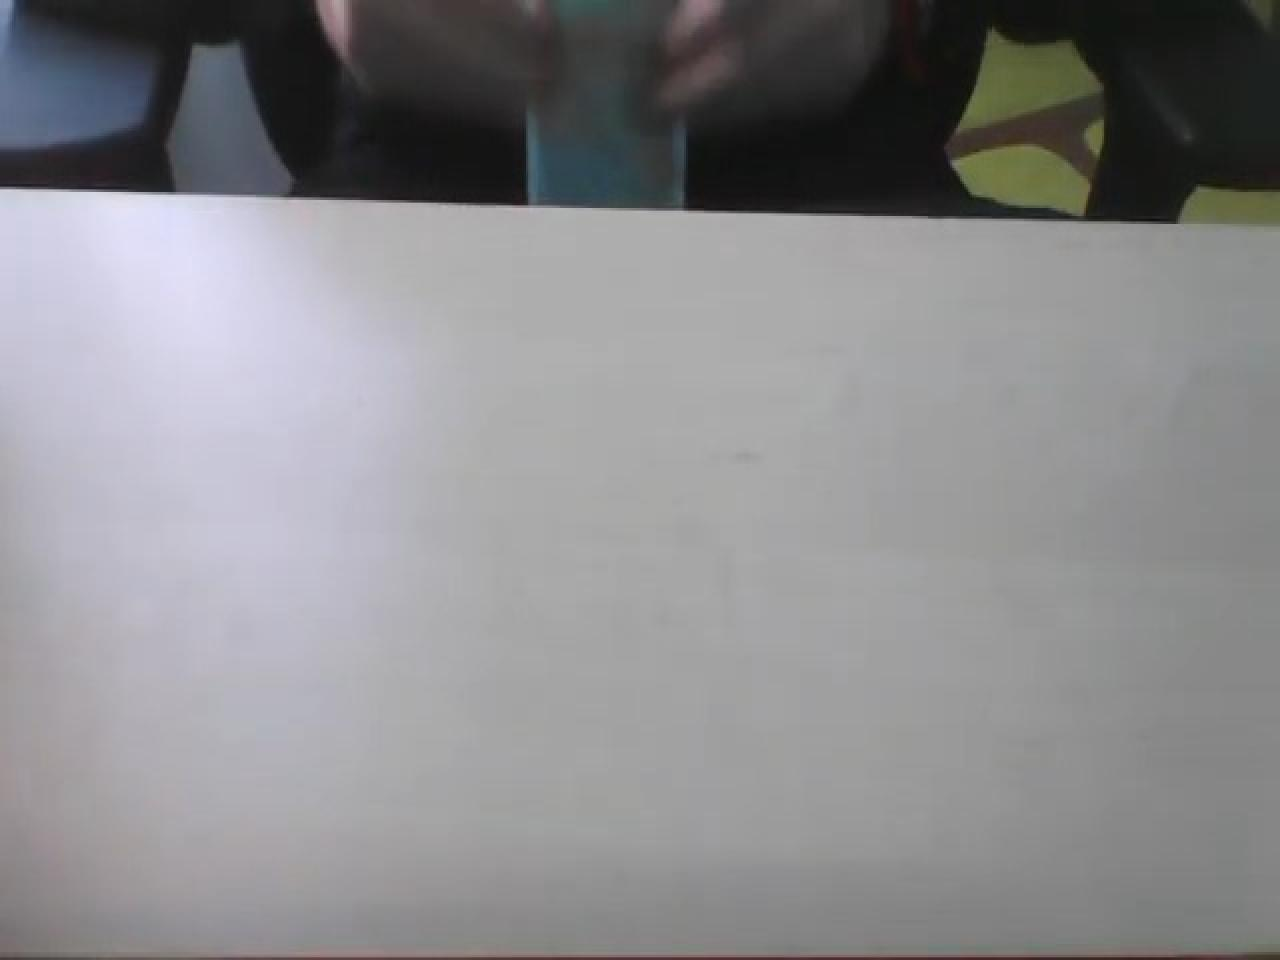100leva: (2, 178, 1276, 955), (4, 0, 1274, 219)
